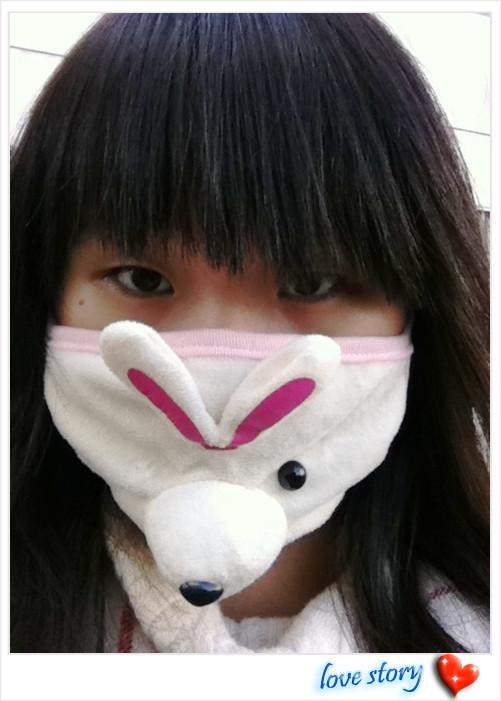OK: (63, 209, 407, 543)
